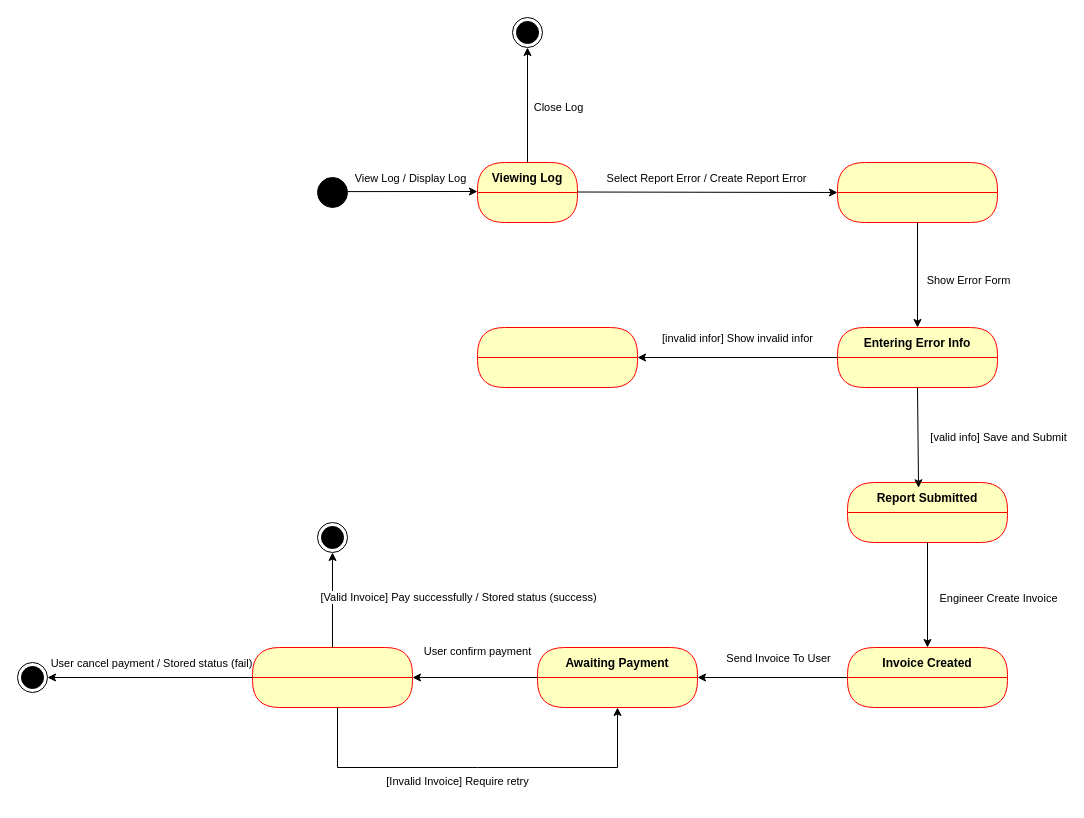
The diagram is 1084 pixels wide and 818 high, and some of its shapes have lost their labels. The centre of each missing label's shape, as x and y in pixels:
Processing Payment: the point at 332,677
Reporting Error: the point at 917,192
Showing Error: the point at 557,357
